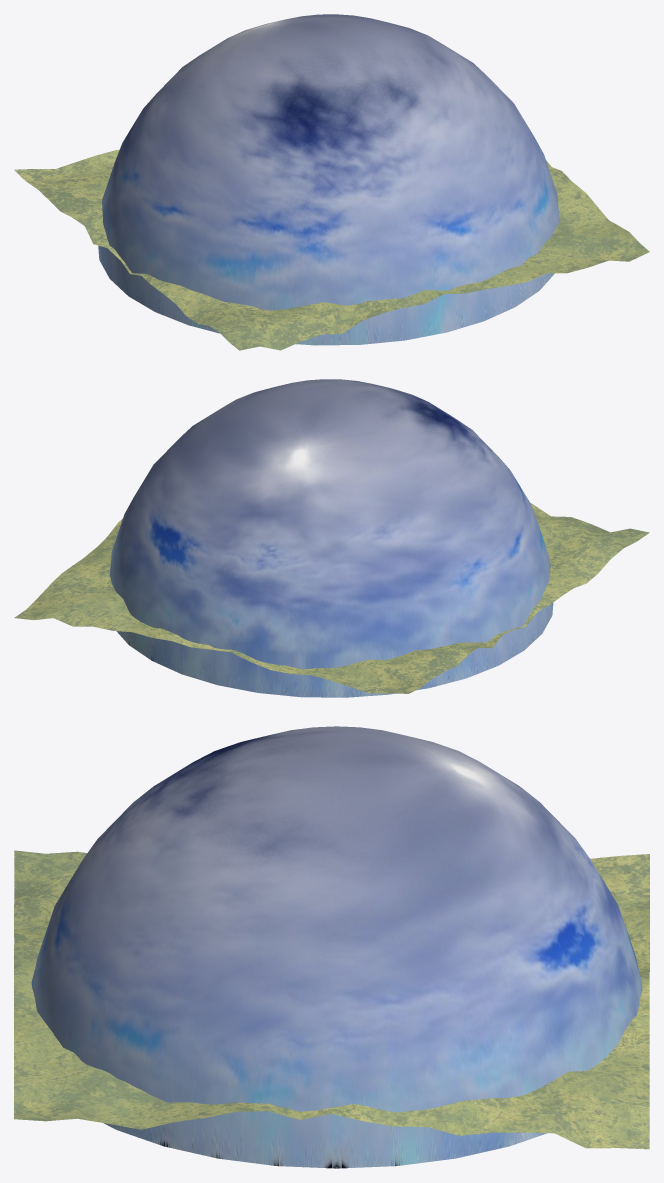
The model's file is skybox.DAE.
3 renders of one model, top to bottom at view 1: azimuth 30°, elevation 25°; view 2: azimuth 150°, elevation 25°; view 3: azimuth 270°, elevation 25°, orthographic. The views are drawn at different scales.
Parts seen in each view (by area): view 1: Sphere001, Plane001; view 2: Sphere001, Plane001; view 3: Sphere001, Plane001.
Part boxes in pixels (left/top/right/bottom): Sphere001: left=98, top=14, right=559, bottom=345; Plane001: left=14, top=149, right=649, bottom=350; Sphere001: left=110, top=379, right=553, bottom=697; Plane001: left=14, top=503, right=649, bottom=693; Sphere001: left=31, top=726, right=642, bottom=1168; Plane001: left=14, top=850, right=649, bottom=1149.
Size of the model in its own units: 5126 by 2442 by 4993.
